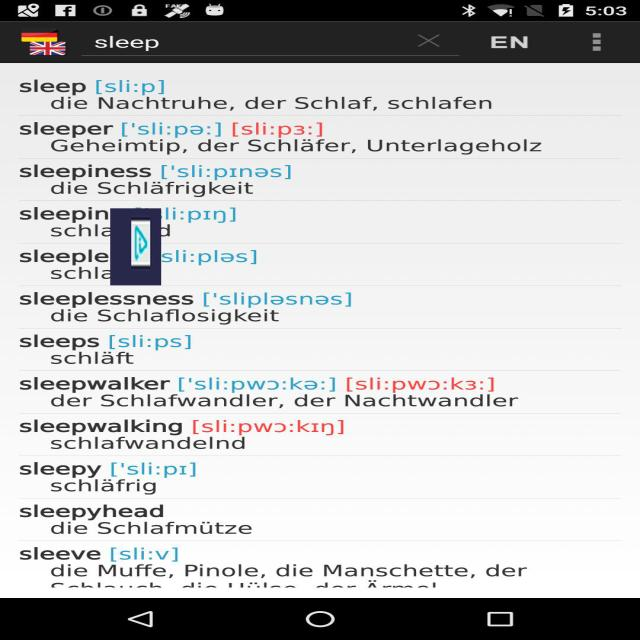sneaking: (110, 208, 161, 286)
